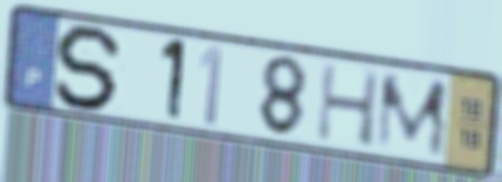1: (154, 36, 190, 127), (196, 43, 224, 128)
8: (255, 53, 313, 140)
H: (314, 60, 384, 150)
M: (372, 72, 451, 161)
S: (51, 22, 129, 113)
